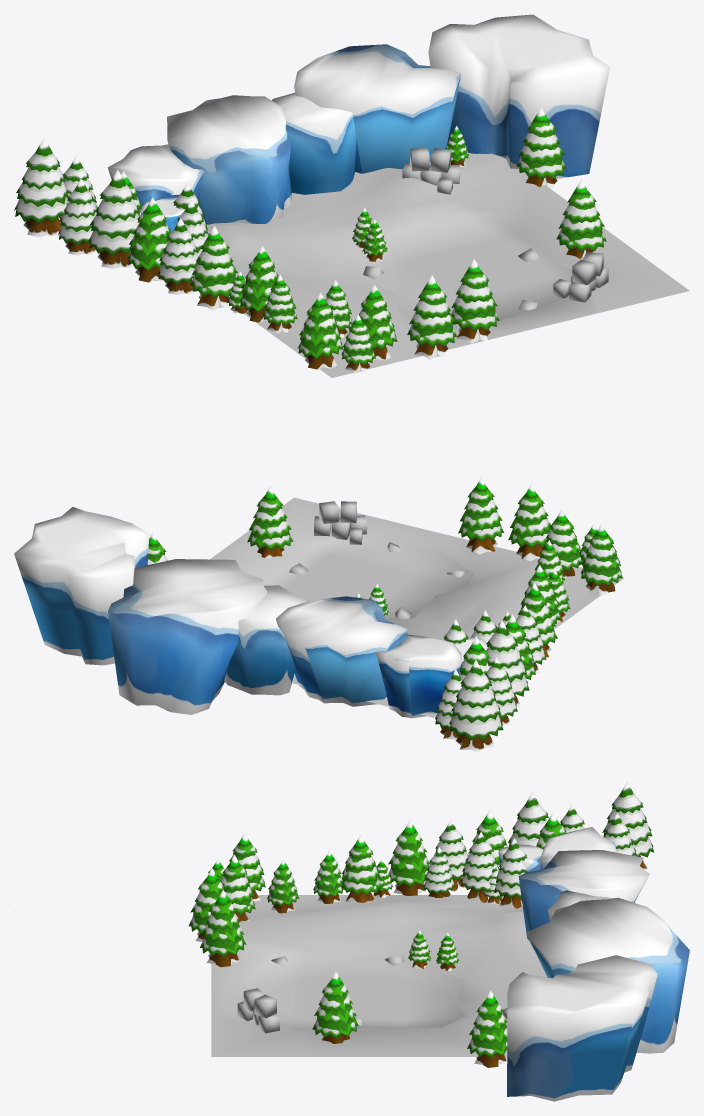
File: Map_1_B_5.FBX
3 renders of one model, top to bottom at view 1: azimuth 30°, elevation 25°; view 2: azimuth 150°, elevation 25°; view 3: azimuth 270°, elevation 25°, orthographic. The views are drawn at different scales.
Parts seen in each view (by area): view 1: tereno2, Iceberg011, Iceberg013, Iceberg012, Iceberg009, Three055, Iceberg014, Three040, Three058, Three067, Three049, Three057 (+15 smaller); view 2: tereno2, Iceberg013, Iceberg011, Iceberg012, Iceberg009, Iceberg014, Three055, Three067, Three058, Three056, Three064, box009 (+12 smaller); view 3: tereno2, Iceberg011, Iceberg013, Iceberg012, Three067, Three057, Three049, Three056, Three045, Three055, Three050, Three047 (+16 smaller).
Part boxes in pixels (x1,y1,x2,y2): tereno2: (206, 152, 689, 377); Iceberg011: (428, 14, 610, 178); Iceberg013: (294, 44, 461, 173); Iceberg012: (167, 95, 292, 224); Iceberg009: (271, 92, 356, 194); Three055: (14, 138, 68, 237); Iceberg014: (107, 144, 204, 209); Three040: (88, 170, 139, 268); Three058: (407, 275, 457, 359); Three067: (451, 258, 499, 343); Three049: (189, 225, 237, 310); Three057: (516, 107, 566, 188); tereno2: (210, 497, 624, 717); Iceberg013: (108, 559, 267, 714); Iceberg011: (14, 507, 149, 665); Iceberg012: (276, 596, 407, 706); Iceberg009: (224, 585, 309, 695); Iceberg014: (376, 634, 461, 718); Three055: (449, 659, 503, 752); Three067: (458, 476, 503, 554); Three058: (508, 483, 550, 561); Three056: (247, 485, 293, 558); Three064: (580, 523, 622, 595); box009: (314, 501, 367, 544); tereno2: (211, 895, 546, 1056); Iceberg011: (507, 955, 657, 1101); Iceberg013: (526, 897, 689, 1053); Iceberg012: (518, 850, 649, 947); Three067: (200, 889, 246, 967); Three057: (467, 990, 507, 1067); Three049: (388, 820, 430, 895); Three056: (312, 971, 358, 1043); Three045: (341, 834, 381, 902); Three055: (602, 782, 654, 869); Three050: (460, 832, 499, 903); Three047: (494, 838, 527, 908).
Bounding box in the file's own units: 750 × 154 × 882.
